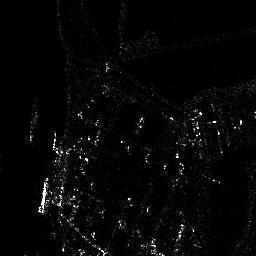ship: (38, 175, 52, 219)
